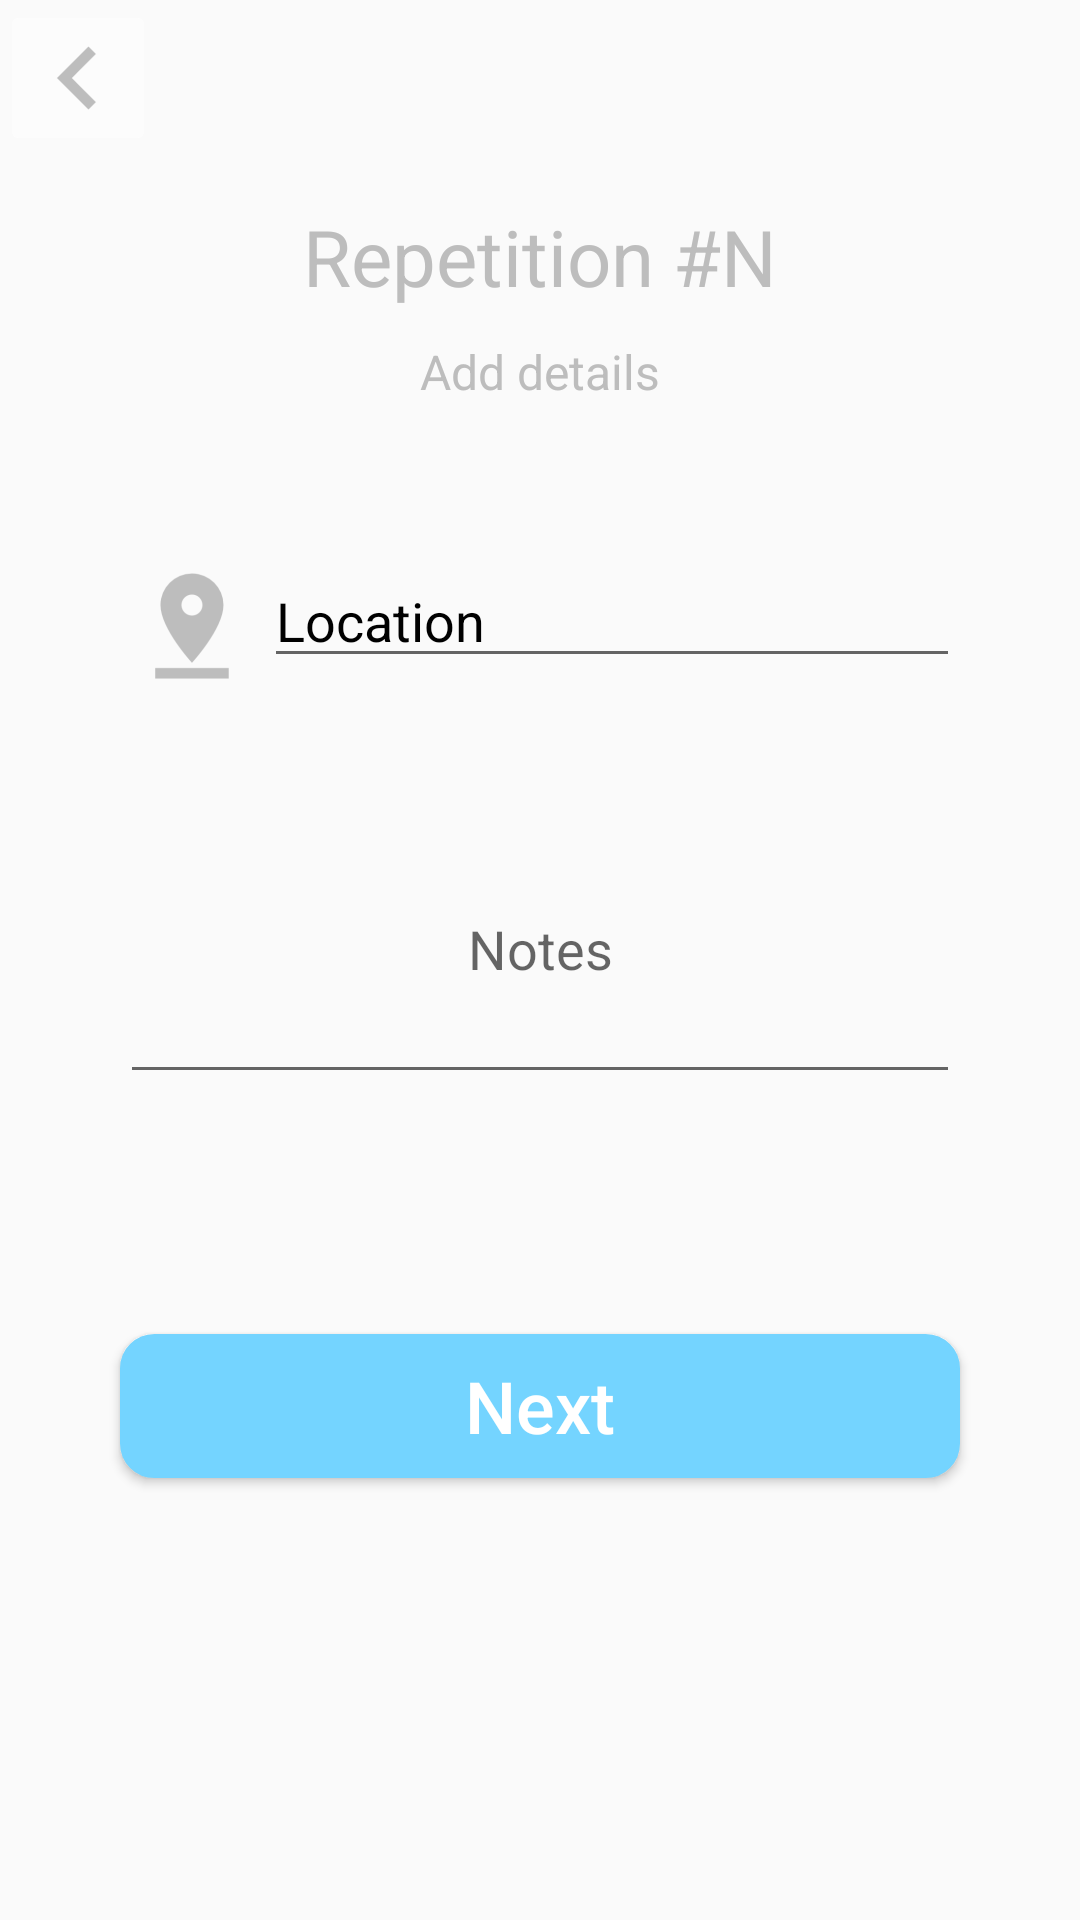

Named icons in this screenshot (1080w x 1920h) and their bounding boxes, {"x1": x1, "y1": y1, "x2": x2, "y2": y2}:
back: {"x1": 57, "y1": 47, "x2": 96, "y2": 109}
